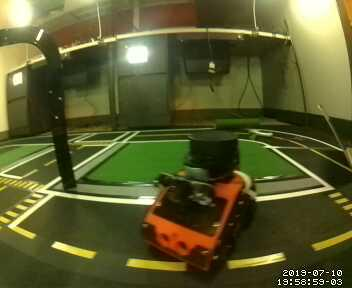pheeno: (141, 130, 256, 281)
